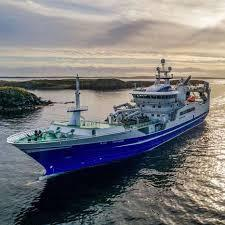Ship: (8, 60, 210, 177)
